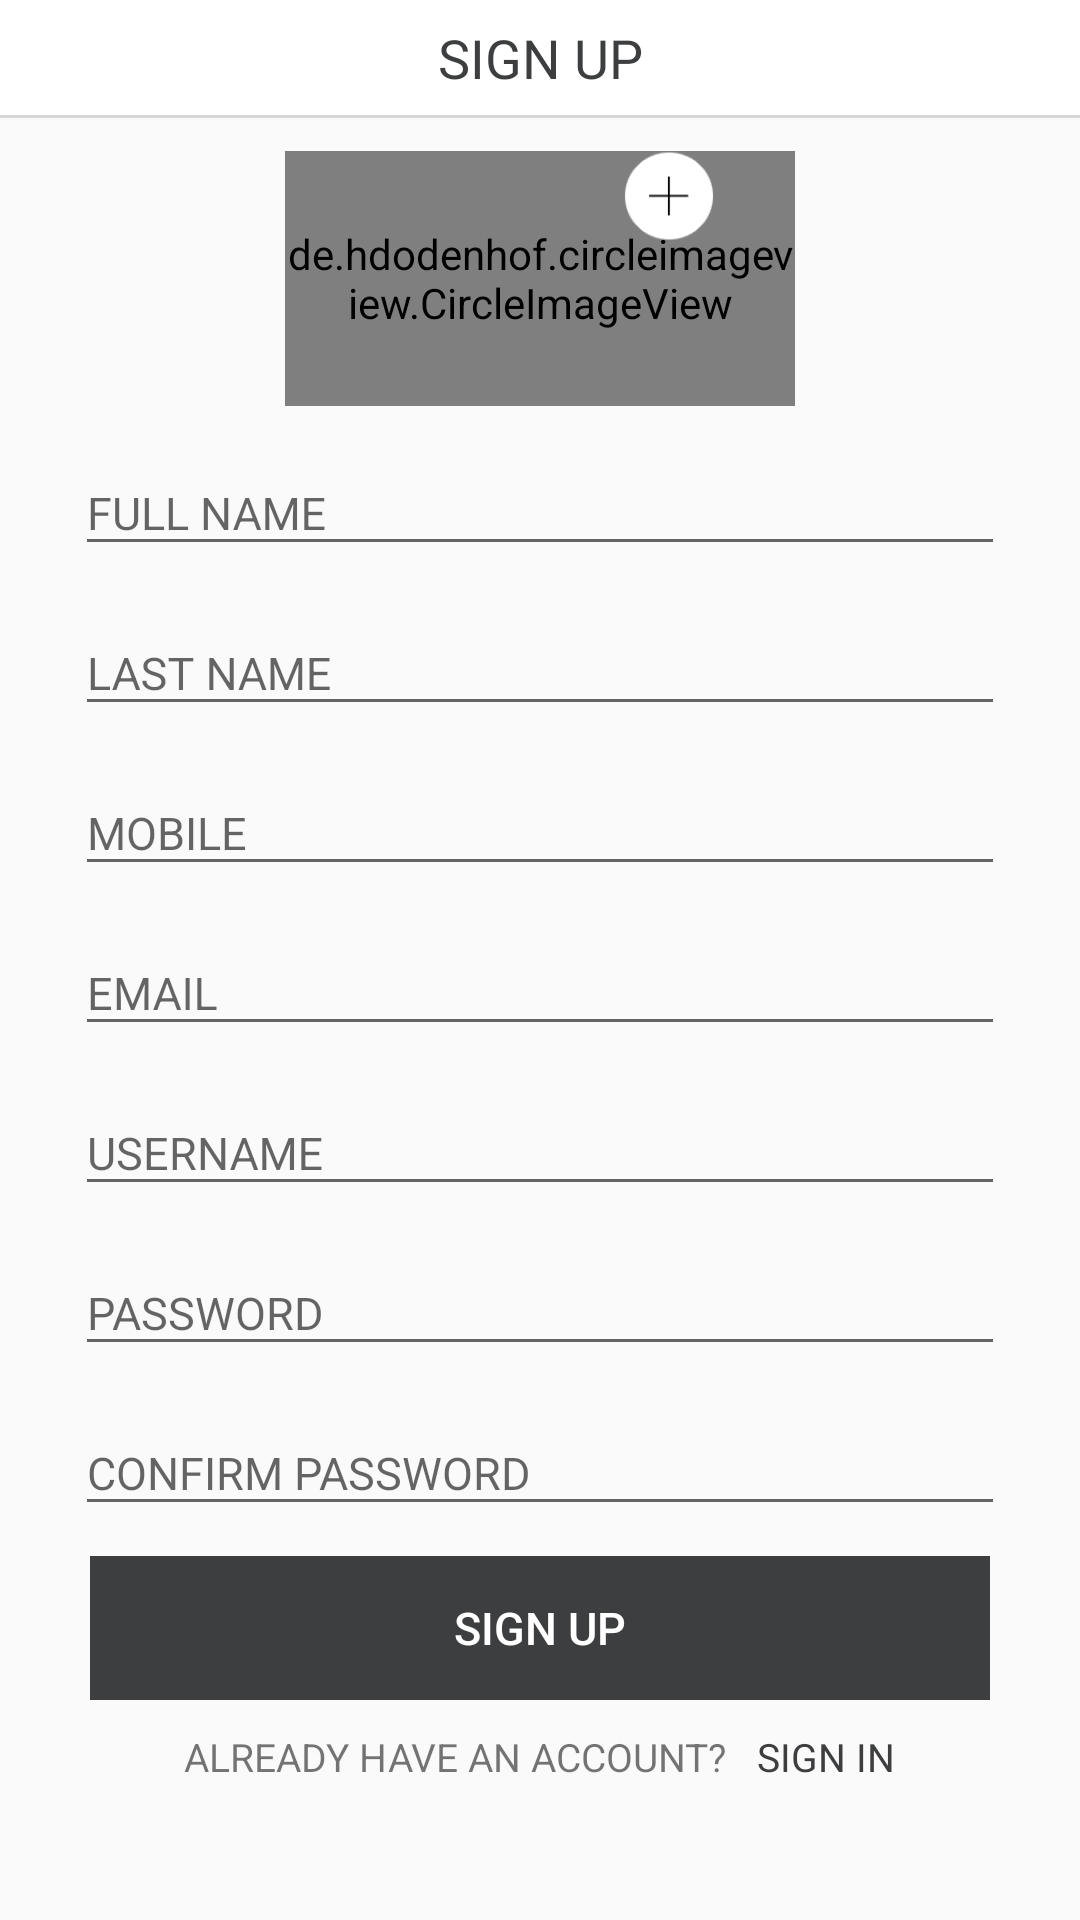

Named icons in this screenshot (1080 × 1920) and their centers, point (x, y):
plus: point (669, 196)
